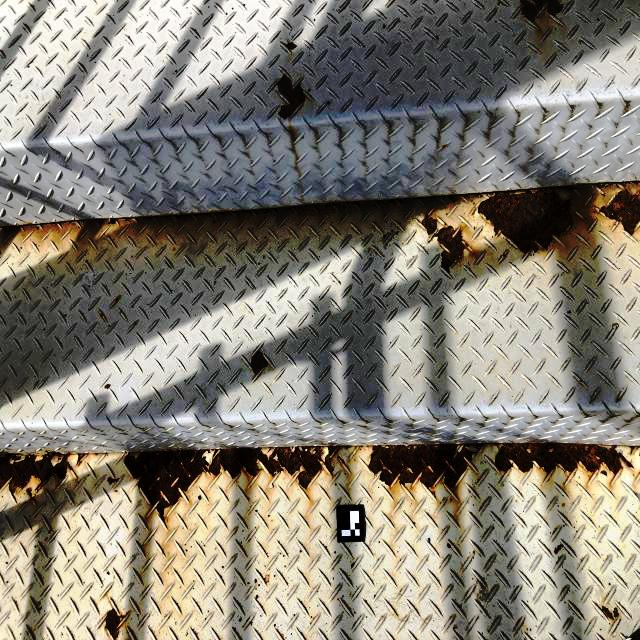Corrosion: (125, 446, 340, 527), (477, 187, 575, 255), (367, 443, 486, 490), (494, 443, 635, 482), (0, 451, 89, 501), (595, 186, 640, 238), (427, 222, 469, 275), (277, 74, 306, 120), (520, 0, 565, 24), (103, 606, 127, 640), (249, 350, 269, 376), (419, 214, 438, 238), (601, 604, 620, 621), (286, 41, 297, 51), (630, 446, 640, 455)
